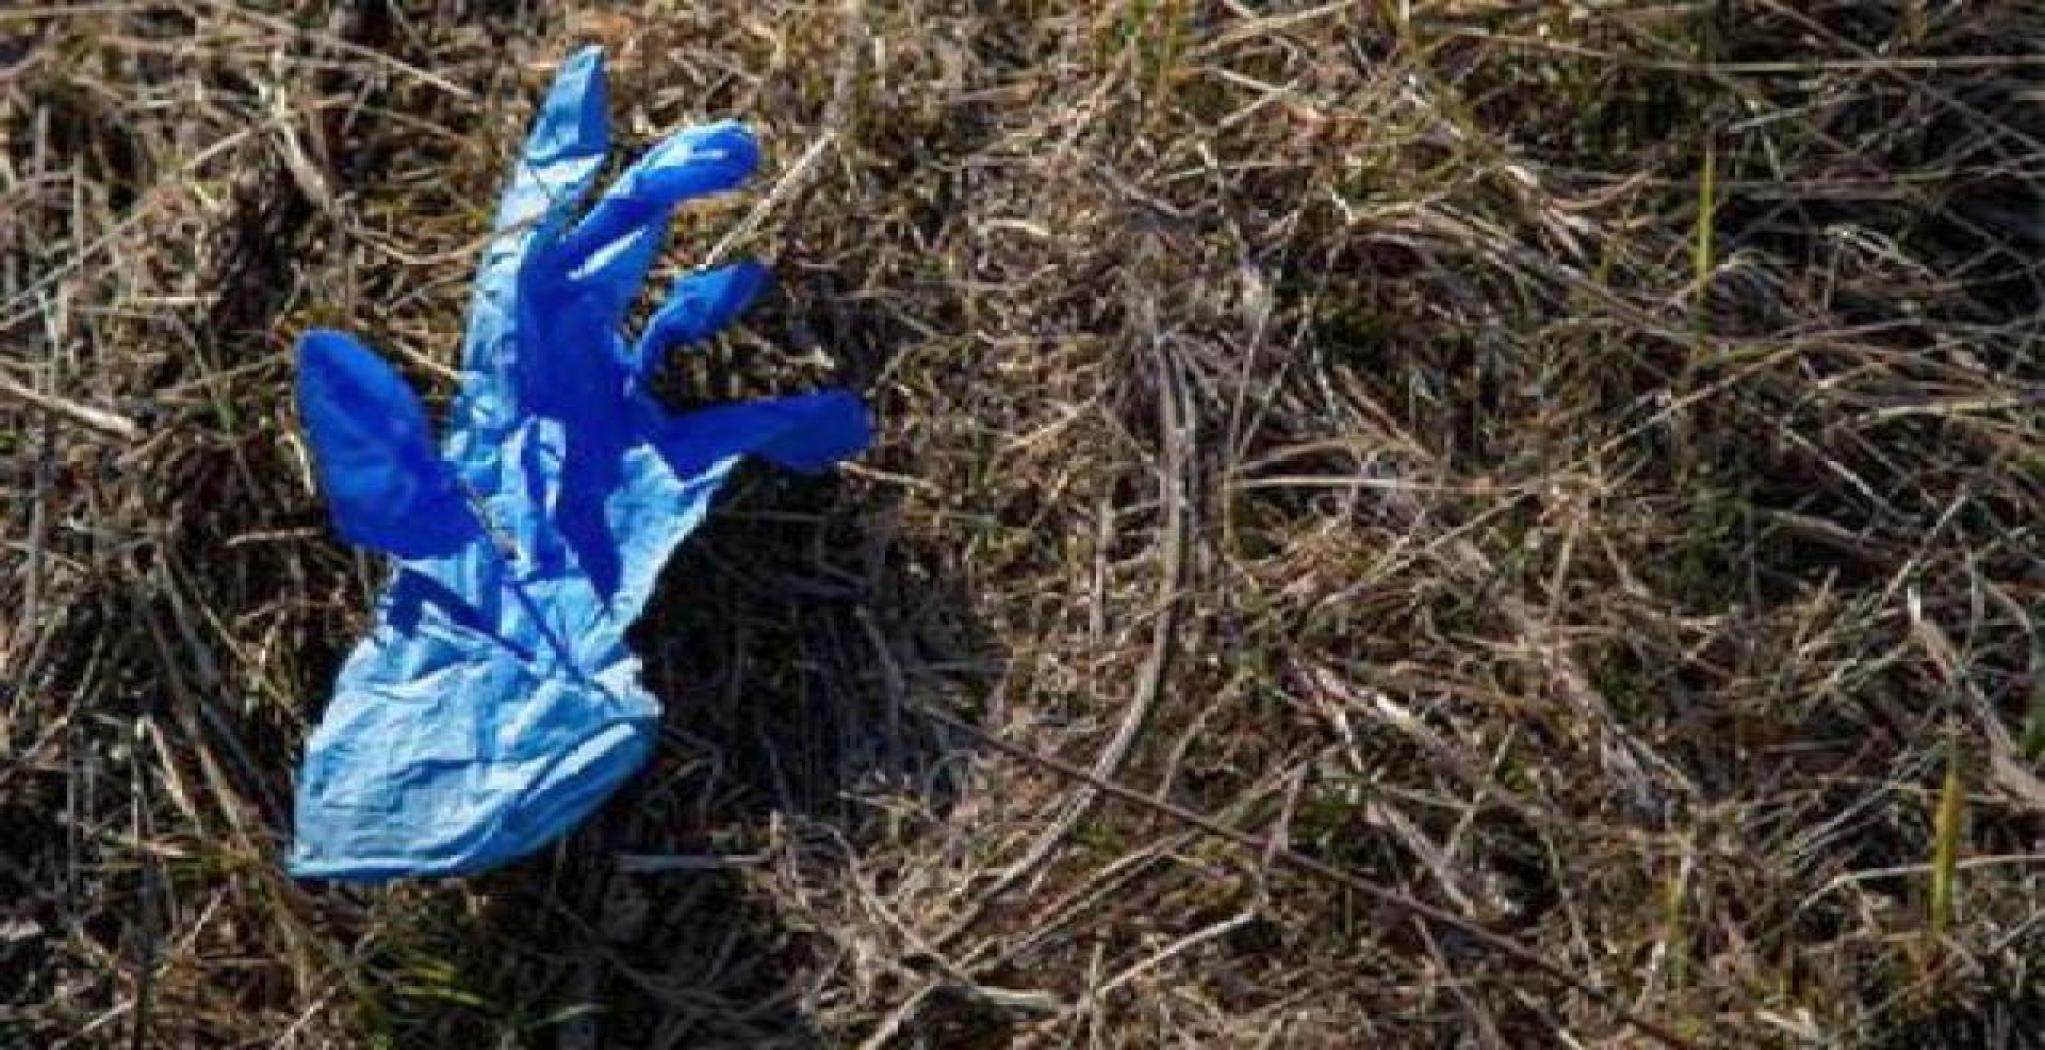gloved: (268, 42, 881, 883)
